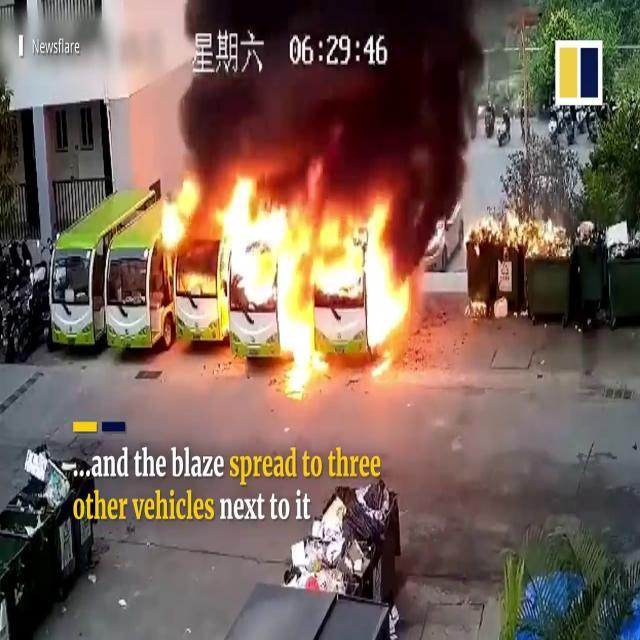Fire: (192, 187, 418, 384), (458, 201, 570, 253)
Smoke: (155, 0, 496, 184)
